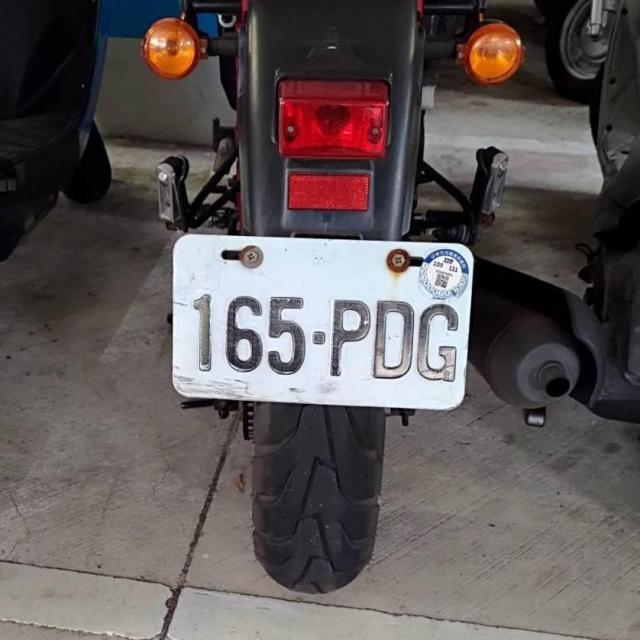W: (165, 228, 480, 414)
